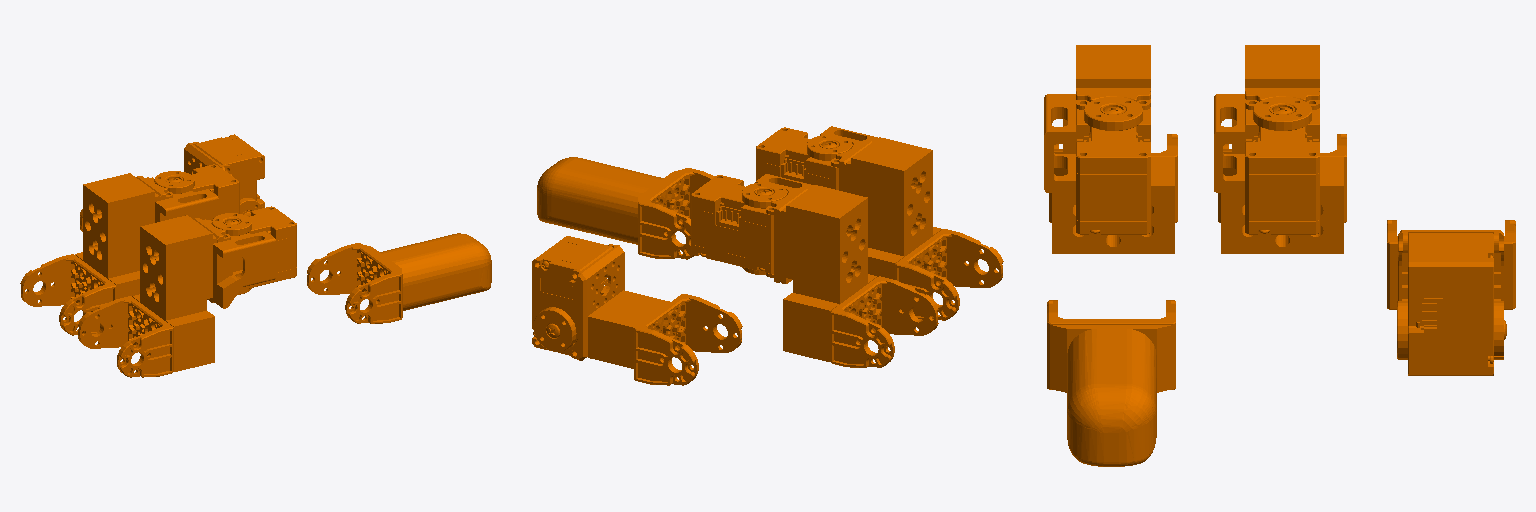
The robot description file, URDF, robot "onshape":
<robot name="onshape">
  <link name="palm_lower">
    <inertial>
      <origin xyz="0.0 0.0 0.0" rpy="0.0 -0.0 0.0"/>
      <mass value="0.237"/>
      <inertia ixx="0.000354094" ixy="-1.193e-06" ixz="-2.445e-06" iyy="0.000260915" iyz="-2.905e-06" izz="0.000529257"/>
    </inertial>
    <visual>
      <geometry>
        <mesh filename="../assets/leap/leap_hand/palm_lower.stl"/>
      </geometry>
      <origin xyz="-0.020095249652862544 0.025757756134899473 -0.034722403578460216" rpy="0.0 -0.0 0.0"/>
      <material name="palm_lower_material">
        <color rgba="0.6039215686274509 0.14901960784313725 0.14901960784313725 1.0"/>
      </material>
    </visual>
    <collision>
      <geometry>
        <mesh filename="../assets/leap/leap_hand/palm_lower.stl"/>
      </geometry>
      <origin xyz="-0.020095249652862544 0.025757756134899473 -0.034722403578460216" rpy="0.0 -0.0 0.0"/>
    </collision>
  </link>
  <link name="mcp_joint">
    <inertial>
      <origin xyz="0.0 0.0 0.0" rpy="0.0 -0.0 0.0"/>
      <mass value="0.044"/>
      <inertia ixx="1.1499e-05" ixy="3.049e-06" ixz="1.21e-07" iyy="7.796e-06" iyz="1.12e-07" izz="1.4759e-05"/>
    </inertial>
    <visual>
      <geometry>
        <mesh filename="../assets/leap/leap_hand/mcp_joint.stl"/>
      </geometry>
      <origin xyz="0.008406902261174496 0.0077662438597169954 0.014657354985032912" rpy="1.6375789613221e-15 -1.021047330249102e-30 1.7177968783327987e-31"/>
      <material name="mcp_joint_material">
        <color rgba="0.8666666666666667 0.8666666666666667 0.050980392156862744 1.0"/>
      </material>
    </visual>
    <collision>
      <geometry>
        <mesh filename="../assets/leap/leap_hand/mcp_joint.stl"/>
      </geometry>
      <origin xyz="0.008406902261174496 0.0077662438597169954 0.014657354985032912" rpy="1.6375789613221e-15 -1.021047330249102e-30 1.7177968783327987e-31"/>
    </collision>
  </link>
  <link name="pip">
    <inertial>
      <origin xyz="0.0 0.0 0.0" rpy="0.0 -0.0 0.0"/>
      <mass value="0.032"/>
      <inertia ixx="4.798e-06" ixy="1.2e-08" ixz="4e-09" iyy="2.862e-06" iyz="1.1e-08" izz="4.234e-06"/>
    </inertial>
    <visual>
      <geometry>
        <mesh filename="../assets/leap/leap_hand/pip.stl"/>
      </geometry>
      <origin xyz="0.009643363092271328 0.0002999999999999895 0.0007840340104173765" rpy="-1.5707963267948966 -1.5707963267948963 0.0"/>
      <material name="pip_material">
        <color rgba="0.7490196078431373 0.7490196078431373 0.7490196078431373 1.0"/>
      </material>
    </visual>
    <collision>
      <geometry>
        <mesh filename="../assets/leap/leap_hand/pip.stl"/>
      </geometry>
      <origin xyz="0.009643363092271328 0.0002999999999999895 0.0007840340104173765" rpy="-1.5707963267948966 -1.5707963267948963 0.0"/>
    </collision>
  </link>
  <link name="dip_long">
    <inertial>
      <origin xyz="0.0 0.0 0.0" rpy="0.0 -0.0 0.0"/>
      <mass value="0.037"/>
      <inertia ixx="5.542e-06" ixy="-6.07e-07" ixz="-1.7e-08" iyy="5.727e-06" iyz="-2.3e-08" izz="6.682e-06"/>
    </inertial>
    <visual>
      <geometry>
        <mesh filename="custom_models/dip_long.stl"/>
      </geometry>
      <origin xyz="0.021133352895225003 -0.00843211914670488 0.00978508816209524" rpy="-3.141592653589793 4.507511124216441e-32 4.439548105392361e-32"/>
      <material name="dip_material">
        <color rgba="0.878 0.467 0.0 1.0"/>
      </material>
    </visual>
    <collision>
      <geometry>
        <mesh filename="custom_models/dip_long.stl"/>
      </geometry>
      <origin xyz="0.021133352895225003 -0.00843211914670488 0.00978508816209524" rpy="-3.141592653589793 4.507511124216441e-32 4.439548105392361e-32"/>
    </collision>
  </link>
  <link name="fingertip">
    <inertial>
      <origin xyz="0.0 0.0 0.0" rpy="0.0 -0.0 0.0"/>
      <mass value="0.016"/>
      <inertia ixx="3.368e-06" ixy="1.15e-07" ixz="0.0" iyy="1.556e-06" iyz="0.0" izz="2.863e-06"/>
    </inertial>
    <visual>
      <geometry>
        <mesh filename="../assets/leap/leap_hand/fingertip.stl"/>
      </geometry>
      <origin xyz="0.013286424108533503 -0.006114238386541987 0.014499999999999498" rpy="3.141592653589793 1.1993117970061735e-33 4.439548105392361e-32"/>
      <material name="fingertip_material">
        <color rgba="0.8666666666666667 0.8666666666666667 0.050980392156862744 1.0"/>
      </material>
    </visual>
    <collision>
      <geometry>
        <mesh filename="../assets/leap/leap_hand/fingertip.stl"/>
      </geometry>
      <origin xyz="0.013286424108533503 -0.006114238386541987 0.014499999999999498" rpy="3.141592653589793 1.1993117970061735e-33 4.439548105392361e-32"/>
    </collision>
  </link>
  <link name="pip_4">
    <inertial>
      <origin xyz="0.0 0.0 0.0" rpy="0.0 -0.0 0.0"/>
      <mass value="0.032"/>
      <inertia ixx="4.798e-06" ixy="1.2e-08" ixz="4e-09" iyy="2.862e-06" iyz="1.1e-08" izz="4.234e-06"/>
    </inertial>
    <visual>
      <geometry>
        <mesh filename="../assets/leap/leap_hand/pip.stl"/>
      </geometry>
      <origin xyz="-0.005356636907728671 0.0002999999999999999 0.0007840340104173782" rpy="-1.5707963267948966 -1.5707963267948963 0.0"/>
      <material name="pip_material">
        <color rgba="0.7490196078431373 0.7490196078431373 0.7490196078431373 1.0"/>
      </material>
    </visual>
    <collision>
      <geometry>
        <mesh filename="../assets/leap/leap_hand/pip.stl"/>
      </geometry>
      <origin xyz="-0.005356636907728671 0.0002999999999999999 0.0007840340104173782" rpy="-1.5707963267948966 -1.5707963267948963 0.0"/>
    </collision>
  </link>
  <link name="thumb_pip">
    <inertial>
      <origin xyz="0.0 0.0 0.0" rpy="0.0 -0.0 0.0"/>
      <mass value="0.003"/>
      <inertia ixx="5.93e-07" ixy="0.0" ixz="0.0" iyy="5.49e-07" iyz="0.0" izz="2.24e-07"/>
    </inertial>
    <visual>
      <geometry>
        <mesh filename="../assets/leap/leap_hand/thumb_pip.stl"/>
      </geometry>
      <origin xyz="0.011961920770611187 -5.30825383648903e-16 -0.0158526489566642" rpy="1.5707963267948966 1.6050198443300153e-46 -3.9204996250525193e-59"/>
      <material name="thumb_pip_material">
        <color rgba="0.8666666666666667 0.8666666666666667 0.050980392156862744 1.0"/>
      </material>
    </visual>
    <collision>
      <geometry>
        <mesh filename="../assets/leap/leap_hand/thumb_pip.stl"/>
      </geometry>
      <origin xyz="0.011961920770611187 -5.30825383648903e-16 -0.0158526489566642" rpy="1.5707963267948966 1.6050198443300153e-46 -3.9204996250525193e-59"/>
    </collision>
  </link>
  <link name="thumb_dip">
    <inertial>
      <origin xyz="0.0 0.0 0.0" rpy="0.0 -0.0 0.0"/>
      <mass value="0.038"/>
      <inertia ixx="8.474e-06" ixy="2.41e-07" ixz="2.6e-08" iyy="3.841e-06" iyz="2.5e-08" izz="7.679e-06"/>
    </inertial>
    <visual>
      <geometry>
        <mesh filename="../assets/leap/leap_hand/thumb_dip.stl"/>
      </geometry>
      <origin xyz="0.043968715707239175 0.0579529529737092 -0.008628676449369476" rpy="1.94289029309401e-16 3.27515792264422e-15 1.112375852965736e-46"/>
      <material name="thumb_dip_material">
        <color rgba="0.8666666666666667 0.8666666666666667 0.050980392156862744 1.0"/>
      </material>
    </visual>
    <collision>
      <geometry>
        <mesh filename="../assets/leap/leap_hand/thumb_dip.stl"/>
      </geometry>
      <origin xyz="0.043968715707239175 0.0579529529737092 -0.008628676449369476" rpy="1.94289029309401e-16 3.27515792264422e-15 1.112375852965736e-46"/>
    </collision>
  </link>
  <link name="thumb_fingertip">
    <inertial>
      <origin xyz="0.0 0.0 0.0" rpy="0.0 -0.0 0.0"/>
      <mass value="0.049"/>
      <inertia ixx="2.0372e-05" ixy="-4.89e-07" ixz="-3e-08" iyy="4.336e-06" iyz="-9.7e-08" izz="1.9845e-05"/>
    </inertial>
    <visual>
      <geometry>
        <mesh filename="../assets/leap/leap_hand/thumb_fingertip.stl"/>
      </geometry>
      <origin xyz="0.06255953846266739 0.07845968291139699 0.048992911807332215" rpy="4.379057701015637e-47 -3.33066907387547e-16 1.2042408677791935e-46"/>
      <material name="thumb_fingertip_material">
        <color rgba="0.6039215686274509 0.14901960784313725 0.14901960784313725 1.0"/>
      </material>
    </visual>
    <collision>
      <geometry>
        <mesh filename="../assets/leap/leap_hand/thumb_fingertip.stl"/>
      </geometry>
      <origin xyz="0.06255953846266739 0.07845968291139699 0.048992911807332215" rpy="4.379057701015637e-47 -3.33066907387547e-16 1.2042408677791935e-46"/>
    </collision>
  </link>
  <link name="mcp_joint_2_long">
    <inertial>
      <origin xyz="0.0 0.0 0.0" rpy="0.0 -0.0 0.0"/>
      <mass value="0.044"/>
      <inertia ixx="1.1499e-05" ixy="3.049e-06" ixz="1.21e-07" iyy="7.796e-06" iyz="1.12e-07" izz="1.4759e-05"/>
    </inertial>
    <visual>
      <geometry>
        <mesh filename="custom_models/mcp_joint_long.stl"/>
      </geometry>
      <origin xyz="0.008406902261174496 0.0077662438597169954 0.014657354985032914" rpy="1.6375789613221e-15 -1.0076465469034e-30 2.1209300131419907e-61"/>
      <material name="mcp_joint_material">
        <color rgba="0.878 0.467 0.0 1.0"/>
      </material>
    </visual>
    <collision>
      <geometry>
        <mesh filename="custom_models/mcp_joint_long.stl"/>
      </geometry>
      <origin xyz="0.008406902261174496 0.0077662438597169954 0.014657354985032914" rpy="1.6375789613221e-15 -1.0076465469034e-30 2.1209300131419907e-61"/>
    </collision>
  </link>
  <link name="pip_2">
    <inertial>
      <origin xyz="0.0 0.0 0.0" rpy="0.0 -0.0 0.0"/>
      <mass value="0.032"/>
      <inertia ixx="4.798e-06" ixy="1.2e-08" ixz="4e-09" iyy="2.862e-06" iyz="1.1e-08" izz="4.234e-06"/>
    </inertial>
    <visual>
      <geometry>
        <mesh filename="../assets/leap/leap_hand/pip.stl"/>
      </geometry>
      <origin xyz="0.009643363092271328 0.0002999999999999947 0.0007840340104173765" rpy="-1.5707963267948966 -1.5707963267948963 0.0"/>
      <material name="pip_material">
        <color rgba="0.7490196078431373 0.7490196078431373 0.7490196078431373 1.0"/>
      </material>
    </visual>
    <collision>
      <geometry>
        <mesh filename="../assets/leap/leap_hand/pip.stl"/>
      </geometry>
      <origin xyz="0.009643363092271328 0.0002999999999999947 0.0007840340104173765" rpy="-1.5707963267948966 -1.5707963267948963 0.0"/>
    </collision>
  </link>
  <link name="dip_2">
    <inertial>
      <origin xyz="0.0 0.0 0.0" rpy="0.0 -0.0 0.0"/>
      <mass value="0.037"/>
      <inertia ixx="5.542e-06" ixy="-6.07e-07" ixz="-1.7e-08" iyy="5.727e-06" iyz="-2.3e-08" izz="6.682e-06"/>
    </inertial>
    <visual>
      <geometry>
        <mesh filename="../assets/leap/leap_hand/dip.stl"/>
      </geometry>
      <origin xyz="0.021133352895225003 -0.008432119146704865 0.009785088162095237" rpy="-3.141592653589793 2.1146933785271956e-32 1.4408183216511869e-31"/>
      <material name="dip_material">
        <color rgba="0.8666666666666667 0.8666666666666667 0.050980392156862744 1.0"/>
      </material>
    </visual>
    <collision>
      <geometry>
        <mesh filename="../assets/leap/leap_hand/dip.stl"/>
      </geometry>
      <origin xyz="0.021133352895225003 -0.008432119146704865 0.009785088162095237" rpy="-3.141592653589793 2.1146933785271956e-32 1.4408183216511869e-31"/>
    </collision>
  </link>
  <link name="fingertip_2">
    <inertial>
      <origin xyz="0.0 0.0 0.0" rpy="0.0 -0.0 0.0"/>
      <mass value="0.016"/>
      <inertia ixx="3.368e-06" ixy="1.15e-07" ixz="0.0" iyy="1.556e-06" iyz="0.0" izz="2.863e-06"/>
    </inertial>
    <visual>
      <geometry>
        <mesh filename="../assets/leap/leap_hand/fingertip.stl"/>
      </geometry>
      <origin xyz="0.013286424108533496 -0.006114238386542001 0.014499999999999496" rpy="3.141592653589793 -4.317959788283594e-33 1.4408183216511869e-31"/>
      <material name="fingertip_material">
        <color rgba="0.8666666666666667 0.8666666666666667 0.050980392156862744 1.0"/>
      </material>
    </visual>
    <collision>
      <geometry>
        <mesh filename="../assets/leap/leap_hand/fingertip.stl"/>
      </geometry>
      <origin xyz="0.013286424108533496 -0.006114238386542001 0.014499999999999496" rpy="3.141592653589793 -4.317959788283594e-33 1.4408183216511869e-31"/>
    </collision>
  </link>
  <link name="mcp_joint_3_long">
    <inertial>
      <origin xyz="0.0 0.0 0.0" rpy="0.0 -0.0 0.0"/>
      <mass value="0.044"/>
      <inertia ixx="1.1499e-05" ixy="3.049e-06" ixz="1.21e-07" iyy="7.796e-06" iyz="1.12e-07" izz="1.4759e-05"/>
    </inertial>
    <visual>
      <geometry>
        <mesh filename="custom_models/mcp_joint_long.stl"/>
      </geometry>
      <origin xyz="0.0084069022611745 0.007766243859716996 0.014657354985032914" rpy="1.6375789613221e-15 -1.0059504988632627e-30 5.729641584552035e-32"/>
      <material name="mcp_joint_material">
        <color rgba="0.878 0.467 0.0 1.0"/>
      </material>
    </visual>
    <collision>
      <geometry>
        <mesh filename="custom_models/mcp_joint_long.stl"/>
      </geometry>
      <origin xyz="0.0084069022611745 0.007766243859716996 0.014657354985032914" rpy="1.6375789613221e-15 -1.0059504988632627e-30 5.729641584552035e-32"/>
    </collision>
  </link>
  <link name="pip_3">
    <inertial>
      <origin xyz="0.0 0.0 0.0" rpy="0.0 -0.0 0.0"/>
      <mass value="0.032"/>
      <inertia ixx="4.798e-06" ixy="1.2e-08" ixz="4e-09" iyy="2.862e-06" iyz="1.1e-08" izz="4.234e-06"/>
    </inertial>
    <visual>
      <geometry>
        <mesh filename="../assets/leap/leap_hand/pip.stl"/>
      </geometry>
      <origin xyz="0.009643363092271331 0.00029999999999998084 0.0007840340104173765" rpy="-1.5707963267948966 -1.5707963267948963 0.0"/>
      <material name="pip_material">
        <color rgba="0.7490196078431373 0.7490196078431373 0.7490196078431373 1.0"/>
      </material>
    </visual>
    <collision>
      <geometry>
        <mesh filename="../assets/leap/leap_hand/pip.stl"/>
      </geometry>
      <origin xyz="0.009643363092271331 0.00029999999999998084 0.0007840340104173765" rpy="-1.5707963267948966 -1.5707963267948963 0.0"/>
    </collision>
  </link>
  <link name="dip_3">
    <inertial>
      <origin xyz="0.0 0.0 0.0" rpy="0.0 -0.0 0.0"/>
      <mass value="0.037"/>
      <inertia ixx="5.542e-06" ixy="-6.07e-07" ixz="-1.7e-08" iyy="5.727e-06" iyz="-2.3e-08" izz="6.682e-06"/>
    </inertial>
    <visual>
      <geometry>
        <mesh filename="../assets/leap/leap_hand/dip.stl"/>
      </geometry>
      <origin xyz="0.021133352895225006 -0.008432119146704865 0.009785088162095237" rpy="-3.141592653589793 -1.4095651113919093e-33 1.5565411607615035e-32"/>
      <material name="dip_material">
        <color rgba="0.8666666666666667 0.8666666666666667 0.050980392156862744 1.0"/>
      </material>
    </visual>
    <collision>
      <geometry>
        <mesh filename="../assets/leap/leap_hand/dip.stl"/>
      </geometry>
      <origin xyz="0.021133352895225006 -0.008432119146704865 0.009785088162095237" rpy="-3.141592653589793 -1.4095651113919093e-33 1.5565411607615035e-32"/>
    </collision>
  </link>
  <link name="fingertip_3_long">
    <inertial>
      <origin xyz="0.0 0.0 0.0" rpy="0.0 -0.0 0.0"/>
      <mass value="0.016"/>
      <inertia ixx="3.368e-06" ixy="1.15e-07" ixz="0.0" iyy="1.556e-06" iyz="0.0" izz="2.863e-06"/>
    </inertial>
    <visual>
      <geometry>
        <mesh filename="custom_models/fingertip_long.stl"/>
      </geometry>
      <origin xyz="0.013286424108533501 -0.006114238386541987 0.0144999999999995" rpy="3.141592653589793 8.61707169505754e-33 1.5565411607615035e-32"/>
      <material name="fingertip_material">
        <color rgba="0.878 0.467 0.0 1.0"/>
      </material>
    </visual>
    <collision>
      <geometry>
        <mesh filename="custom_models/fingertip_long.stl"/>
      </geometry>
      <origin xyz="0.013286424108533501 -0.006114238386541987 0.0144999999999995" rpy="3.141592653589793 8.61707169505754e-33 1.5565411607615035e-32"/>
    </collision>
  </link>
  <joint name="1" type="revolute">
    <parent link="palm_lower"/>
    <child link="mcp_joint"/>
    <origin xyz="-0.007095249652862546 0.023057756134899472 -0.01872240357846022" rpy="1.570796326794895 1.5707963267948946 0.0"/>
    <axis xyz="0.0 0.0 -1.0"/>
    <limit effort="0.95" velocity="8.48" lower="-0.314" upper="2.23"/>
  </joint>
  <joint name="0" type="revolute">
    <parent link="mcp_joint"/>
    <child link="pip"/>
    <origin xyz="-0.012200000000000008 0.038099999999999995 0.0145" rpy="-1.5707963267948966 -1.0065212660796337e-15 1.5707963267948943"/>
    <axis xyz="0.0 0.0 -1.0"/>
    <limit effort="0.95" velocity="8.48" lower="-1.047" upper="1.047"/>
  </joint>
  <joint name="2" type="revolute">
    <parent link="pip"/>
    <child link="dip_long"/>
    <origin xyz="0.014999999999999968 0.014299999999999905 -0.012999999999999824" rpy="1.570796326794896 -1.5707963267948963 0.0"/>
    <axis xyz="0.0 0.0 -1.0"/>
    <limit effort="0.95" velocity="8.48" lower="-0.506" upper="1.885"/>
  </joint>
  <joint name="3" type="revolute">
    <parent link="dip_long"/>
    <child link="fingertip"/>
    <origin xyz="-4.0880582495572692636e-09 -0.051100004210367367397 0.00020000000000007858714" rpy="4.5935029425113685e-17 -2.8730071914463795e-16 4.439548105392361e-32"/>
    <axis xyz="0.0 0.0 -1.0"/>
    <limit effort="0.95" velocity="8.48" lower="-0.366" upper="2.042"/>
  </joint>
  <joint name="12" type="revolute">
    <parent link="palm_lower"/>
    <child link="pip_4"/>
    <origin xyz="-0.06939524965286253 -0.0012422438651005258 -0.021622403578460216" rpy="-8.238176646493942e-17 1.5707963267948957 0.0"/>
    <axis xyz="0.0 0.0 -1.0"/>
    <limit effort="0.95" velocity="8.48" lower="-0.349" upper="2.094"/>
  </joint>
  <joint name="13" type="revolute">
    <parent link="pip_4"/>
    <child link="thumb_pip"/>
    <origin xyz="-2.7755575615628914e-17 0.014300000000000005 -0.013000000000000012" rpy="1.570796326794896 -1.5707963267948963 0.0"/>
    <axis xyz="0.0 0.0 -1.0"/>
    <limit effort="0.95" velocity="8.48" lower="-0.47" upper="2.443"/>
  </joint>
  <joint name="14" type="revolute">
    <parent link="thumb_pip"/>
    <child link="thumb_dip"/>
    <origin xyz="0.0 0.014499999999999966 -0.017000000000000053" rpy="-1.5707963267948966 1.6050198443300131e-46 -1.9721522630516625e-31"/>
    <axis xyz="0.0 0.0 -1.0"/>
    <limit effort="0.95" velocity="8.48" lower="-1.2" upper="1.9"/>
  </joint>
  <joint name="15" type="revolute">
    <parent link="thumb_dip"/>
    <child link="thumb_fingertip"/>
    <origin xyz="-1.249000902703301e-16 0.046599999999999864 0.0001999999999999771" rpy="1.506395849149178e-44 5.423418723393526e-31 3.141592653589793"/>
    <axis xyz="0.0 0.0 -1.0"/>
    <limit effort="0.95" velocity="8.48" lower="-1.34" upper="1.88"/>
  </joint>
  <joint name="5" type="revolute">
    <parent link="palm_lower"/>
    <child link="mcp_joint_2_long"/>
    <origin xyz="-0.007095249652862546 -0.022392243865100525 -0.01872240357846022" rpy="1.570796326794895 1.5707963267948946 0.0"/>
    <axis xyz="0.0 0.0 -1.0"/>
    <limit effort="0.95" velocity="8.48" lower="-0.314" upper="2.23"/>
  </joint>
  <joint name="4" type="revolute">
    <parent link="mcp_joint_2_long"/>
    <child link="pip_2"/>
    <origin xyz="-0.012200000000000007713 0.053099999999999994982 0.014500000000000000736" rpy="-1.5707963267948966 -1.0065212660796337e-15 1.5707963267948943"/>
    <axis xyz="0.0 0.0 -1.0"/>
    <limit effort="0.95" velocity="8.48" lower="-1.047" upper="1.047"/>
  </joint>
  <joint name="6" type="revolute">
    <parent link="pip_2"/>
    <child link="dip_2"/>
    <origin xyz="0.014999999999999968 0.014299999999999905 -0.012999999999999824" rpy="1.570796326794896 -1.5707963267948963 0.0"/>
    <axis xyz="0.0 0.0 -1.0"/>
    <limit effort="0.95" velocity="8.48" lower="-0.506" upper="1.885"/>
  </joint>
  <joint name="7" type="revolute">
    <parent link="dip_2"/>
    <child link="fingertip_2"/>
    <origin xyz="-4.088058249557269e-09 -0.03610000421036737 0.0002000000000000786" rpy="4.5935029425113685e-17 -2.8730071914463795e-16 4.439548105392361e-32"/>
    <axis xyz="0.0 0.0 -1.0"/>
    <limit effort="0.95" velocity="8.48" lower="-0.366" upper="2.042"/>
  </joint>
  <joint name="9" type="revolute">
    <parent link="palm_lower"/>
    <child link="mcp_joint_3_long"/>
    <origin xyz="-0.007095249652862546 -0.06784224386510052 -0.01872240357846022" rpy="1.570796326794895 1.5707963267948946 0.0"/>
    <axis xyz="0.0 0.0 -1.0"/>
    <limit effort="0.95" velocity="8.48" lower="-0.314" upper="2.23"/>
  </joint>
  <joint name="8" type="revolute">
    <parent link="mcp_joint_3_long"/>
    <child link="pip_3"/>
    <origin xyz="-0.012200000000000007713 0.053099999999999994982 0.014500000000000000736" rpy="-1.5707963267948966 -1.0065212660796337e-15 1.5707963267948943"/>
    <axis xyz="0.0 0.0 -1.0"/>
    <limit effort="0.95" velocity="8.48" lower="-1.047" upper="1.047"/>
  </joint>
  <joint name="10" type="revolute">
    <parent link="pip_3"/>
    <child link="dip_3"/>
    <origin xyz="0.014999999999999968 0.014299999999999905 -0.012999999999999824" rpy="1.570796326794896 -1.5707963267948963 0.0"/>
    <axis xyz="0.0 0.0 -1.0"/>
    <limit effort="0.95" velocity="8.48" lower="-0.506" upper="1.885"/>
  </joint>
  <joint name="11" type="revolute">
    <parent link="dip_3"/>
    <child link="fingertip_3_long"/>
    <origin xyz="-4.088058249557269e-09 -0.03610000421036737 0.0002000000000000786" rpy="4.5935029425113685e-17 -2.8730071914463795e-16 4.439548105392361e-32"/>
    <axis xyz="0.0 0.0 -1.0"/>
    <limit effort="0.95" velocity="8.48" lower="-0.366" upper="2.042"/>
  </joint>
</robot>

--- What the picture shows (computed from the rendered views, not written in the file) ---
Views: 3 orthographic renders of the robot side by side, from view 1: azimuth 30°, elevation 25°; view 2: azimuth 150°, elevation 25°; view 3: azimuth 270°, elevation 25°.
Model onshape with 17 links and 16 joints (16 revolute), rooted at palm_lower, posed all joints at 0.
Visible links, largest first — view 1: mcp_joint_3_long, mcp_joint_2_long, fingertip_3_long, dip_long; view 2: mcp_joint_2_long, mcp_joint_3_long, dip_long, fingertip_3_long; view 3: mcp_joint_3_long, mcp_joint_2_long, dip_long, fingertip_3_long.
Link boxes in pixels (<box>): mcp_joint_3_long: <box>78,206,296,377</box>; mcp_joint_2_long: <box>20,164,239,335</box>; fingertip_3_long: <box>307,233,491,323</box>; dip_long: <box>80,134,264,231</box>; mcp_joint_2_long: <box>691,174,938,367</box>; mcp_joint_3_long: <box>756,126,1003,320</box>; dip_long: <box>532,236,742,385</box>; fingertip_3_long: <box>537,157,714,259</box>; mcp_joint_3_long: <box>1044,45,1177,253</box>; mcp_joint_2_long: <box>1214,45,1346,253</box>; dip_long: <box>1387,220,1515,375</box>; fingertip_3_long: <box>1047,300,1175,466</box>.
Size in the robot's own frame: 0.1766 by 0.1265 by 0.0549 metres.
Meshes: 11 distinct files referenced, 4 mesh visuals loaded (3 binary STL); not drawn: 13 (reference not matched to a file when rendering).